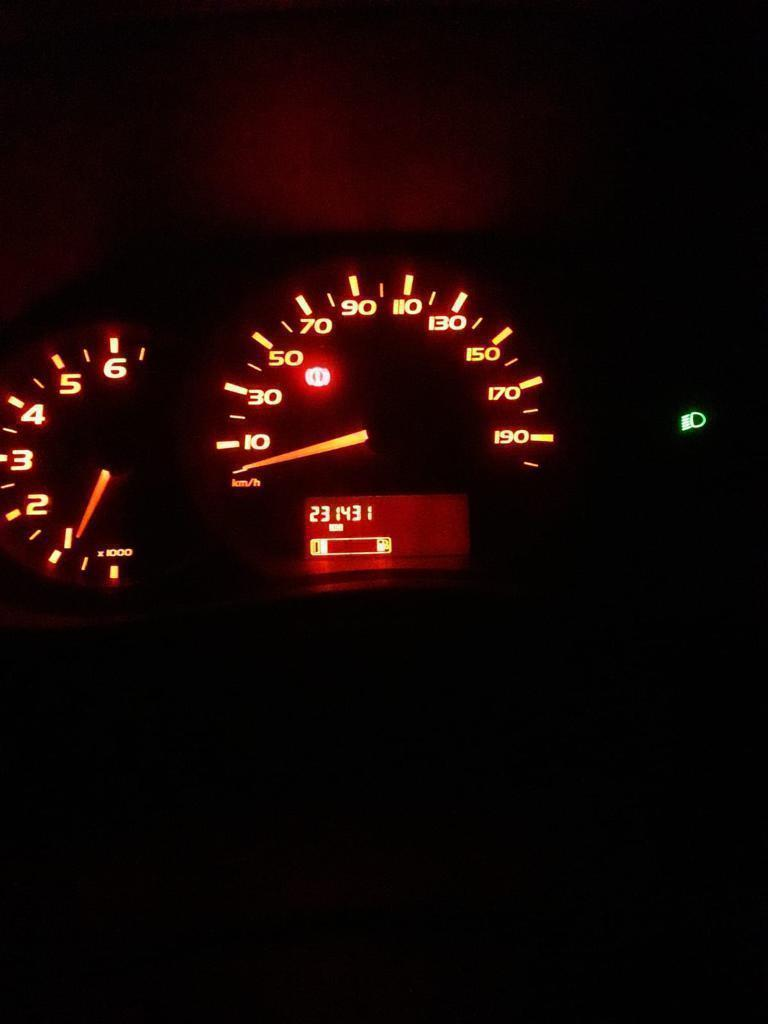1: (367, 504, 373, 522), (335, 505, 340, 521)
2: (309, 504, 319, 523)
3: (351, 503, 362, 521), (320, 504, 330, 522)
4: (340, 505, 350, 521)
X: (335, 523, 344, 532), (328, 523, 335, 532)
odometer: (301, 492, 475, 564)
